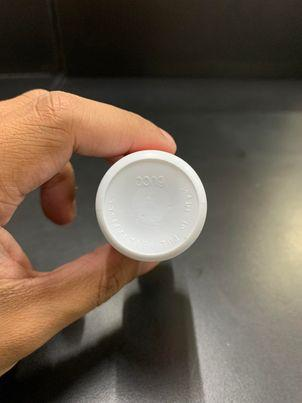-Bottle-: (95, 150, 207, 263)
